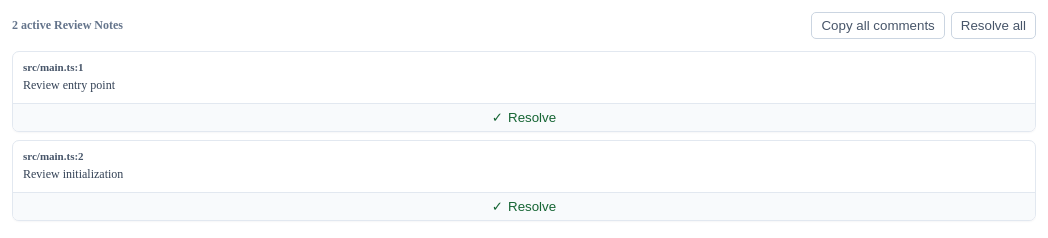
Test: Review Notes sidebar integration › resolves individual and all visible Review Notes
Click the button with aria-label "Resolve Review Note at src/main.ts:1": click(524, 117) [13,103,1035,131]
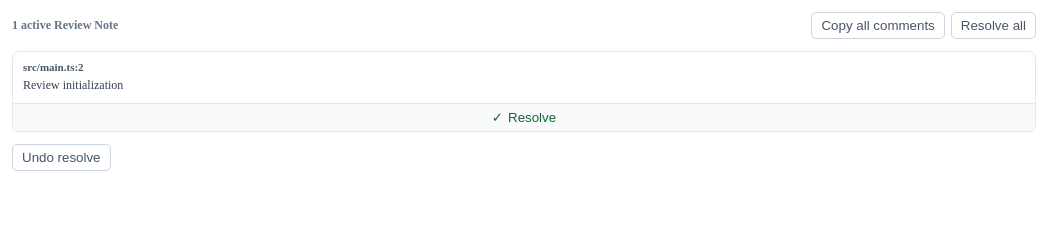
Expected: the button "Review entry point" is gone
Expected: the text "1 active Review Note" is shown, [12,18,118,33]
Click the button "Resolve all": click(993, 26) [951,12,1036,39]
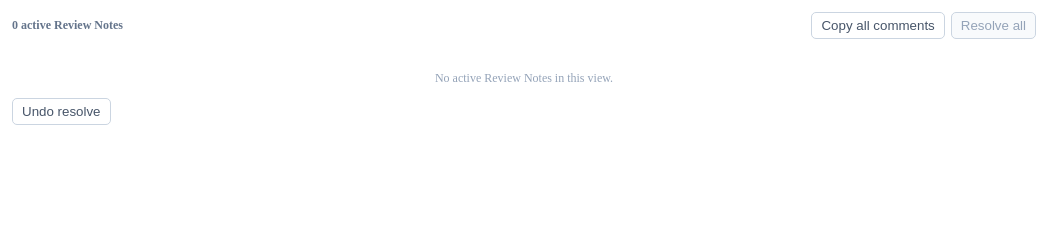
Expected: the text "0 active Review Notes" is shown, [12,18,123,33]
Expected: the button "Resolve all" is disabled, [951,12,1036,39]
